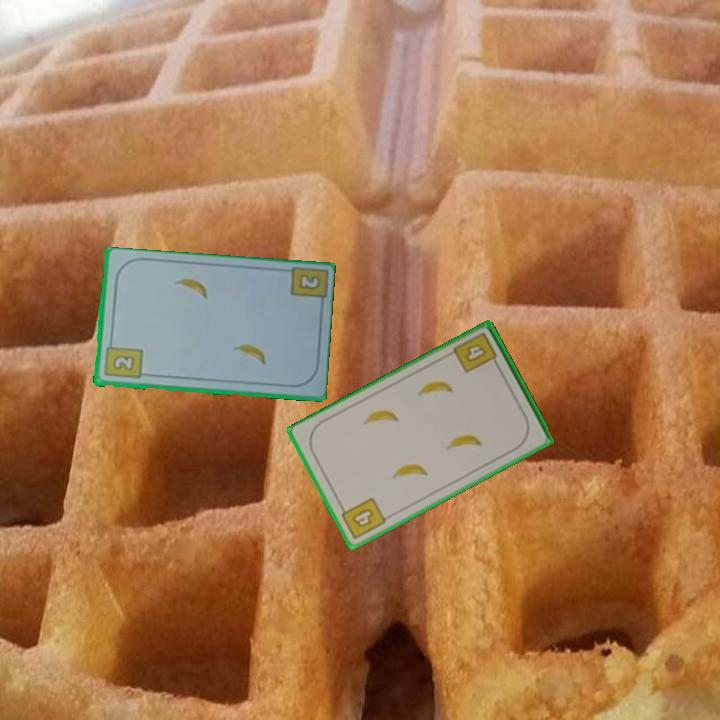2b: (101, 337, 144, 381), (295, 271, 323, 293)
4b: (336, 494, 389, 543), (450, 329, 502, 376)
